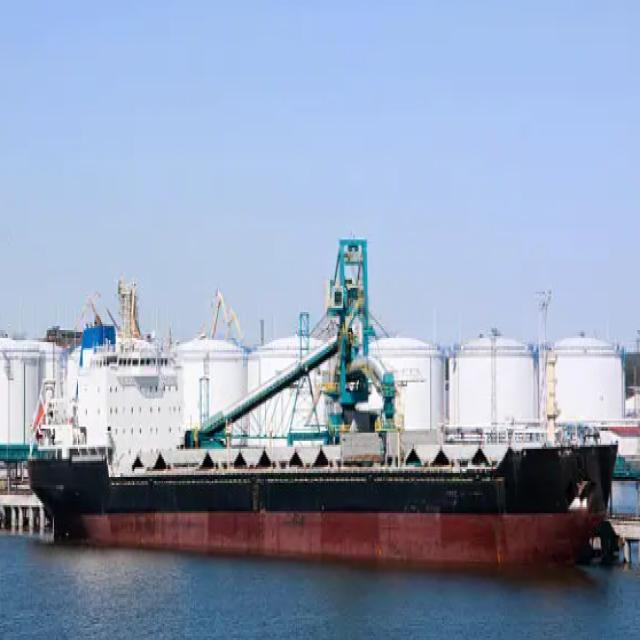cargoship: (32, 323, 616, 572)
